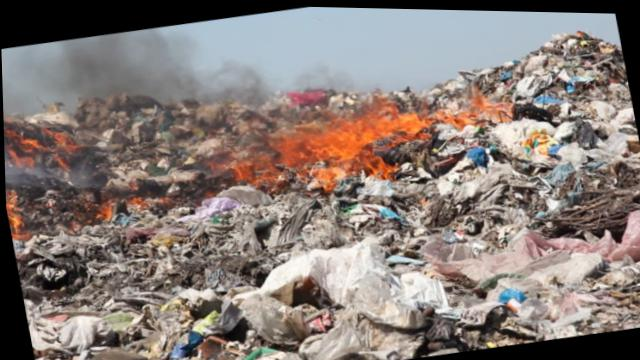fire: (0, 5, 572, 281)
